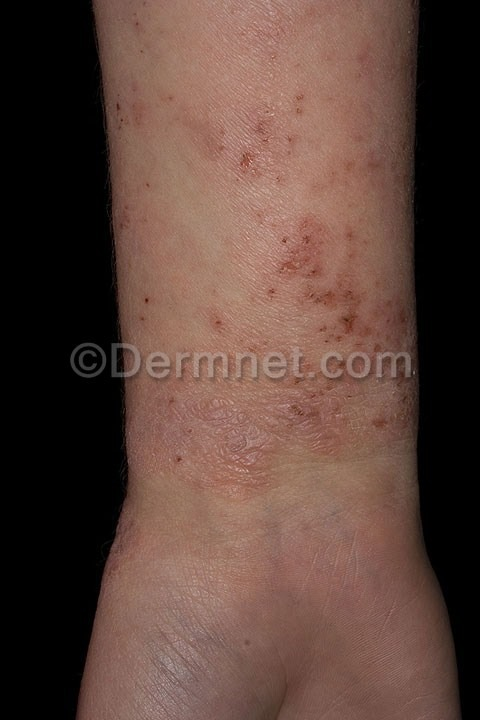Eczema: (103, 1, 419, 549)
